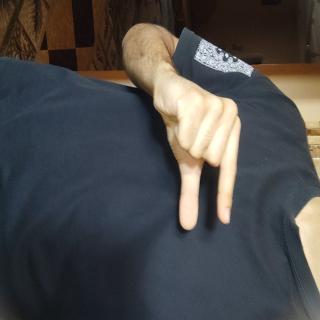DELL: (41, 98, 180, 232)
